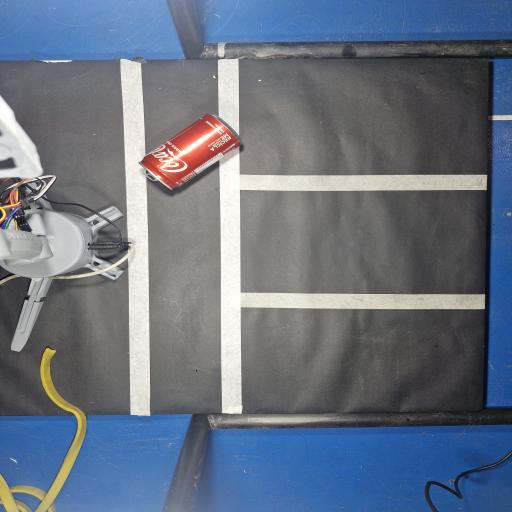lata: (139, 114, 240, 188)
